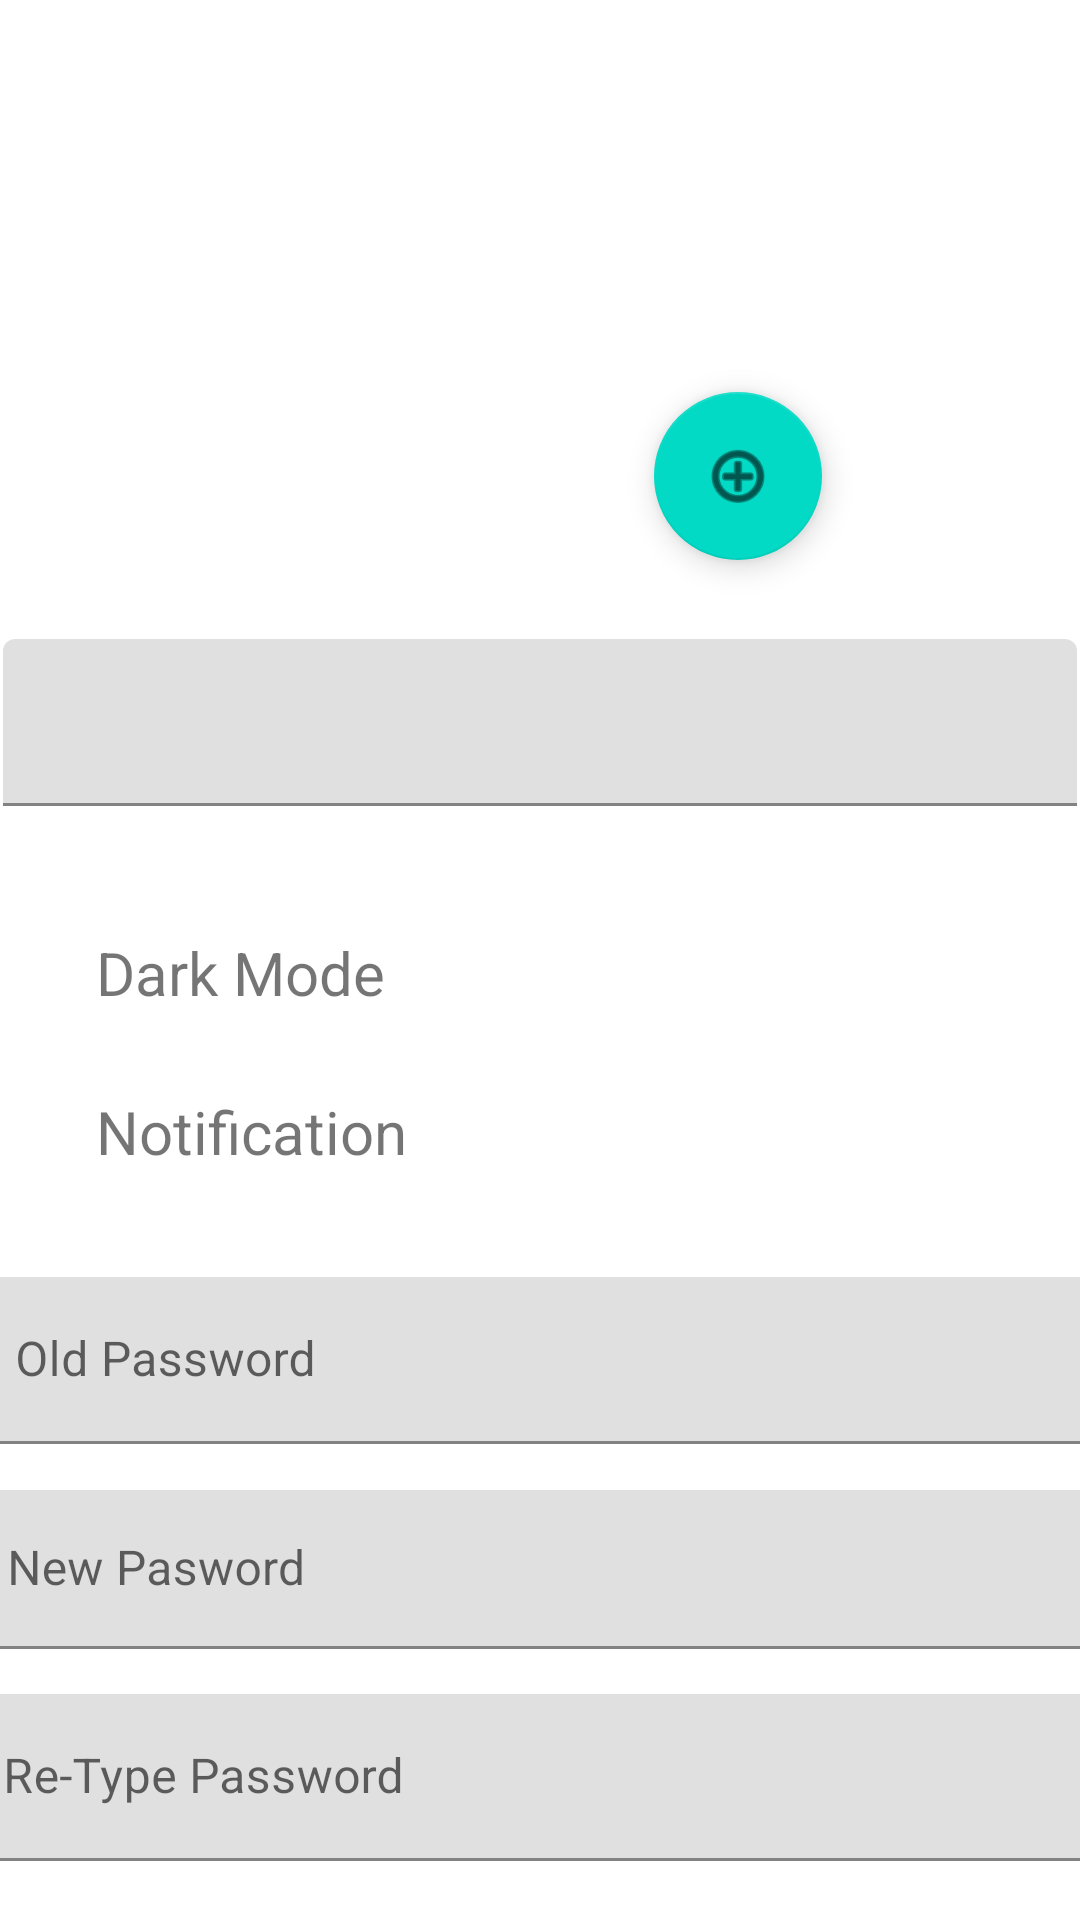

Where icons sit on this 1080 x 1920 app screen, as bbox(x1, y1, x2, y2):
add: bbox(654, 392, 822, 560)
